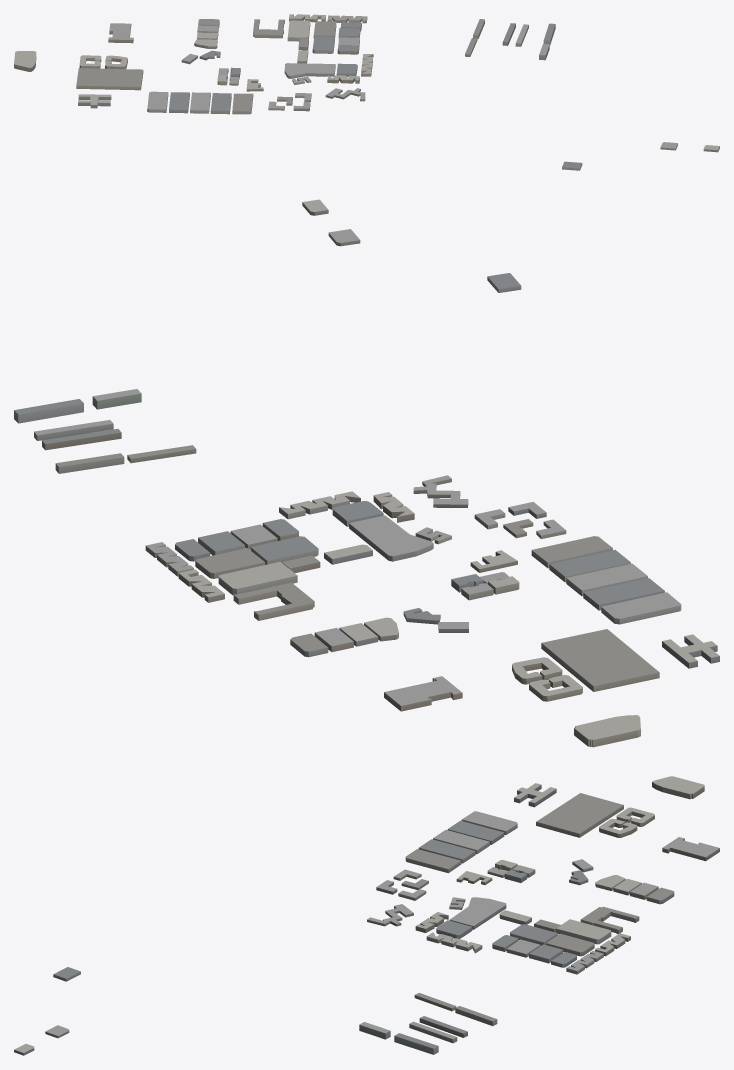
Rendered from bld_19_13.fbx.
3 renders of one model, top to bottom at view 1: azimuth 30°, elevation 25°; view 2: azimuth 150°, elevation 25°; view 3: azimuth 270°, elevation 25°, orthographic. The views are drawn at different scales.
Parts seen in each view (by area): view 1: bld_19_13_LOD0; view 2: bld_19_13_LOD0; view 3: bld_19_13_LOD0.
Boxes of the visible parts, <box> form: bld_19_13_LOD0: <box>14,14,719,170</box>; bld_19_13_LOD0: <box>14,199,719,747</box>; bld_19_13_LOD0: <box>14,776,719,1055</box>.
Size of what is drawn, in the model's own units: 1900 by 20.27 by 2066.
